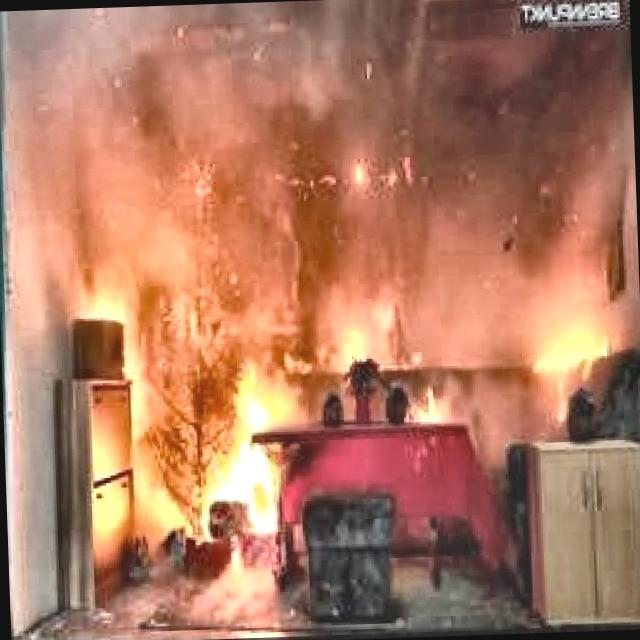fire: (143, 272, 636, 558)
